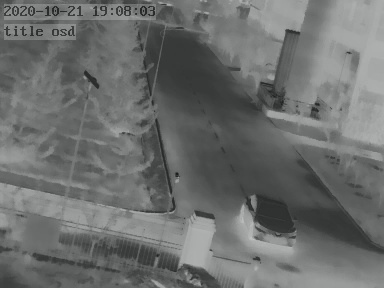vehicle: (237, 194, 298, 246)
